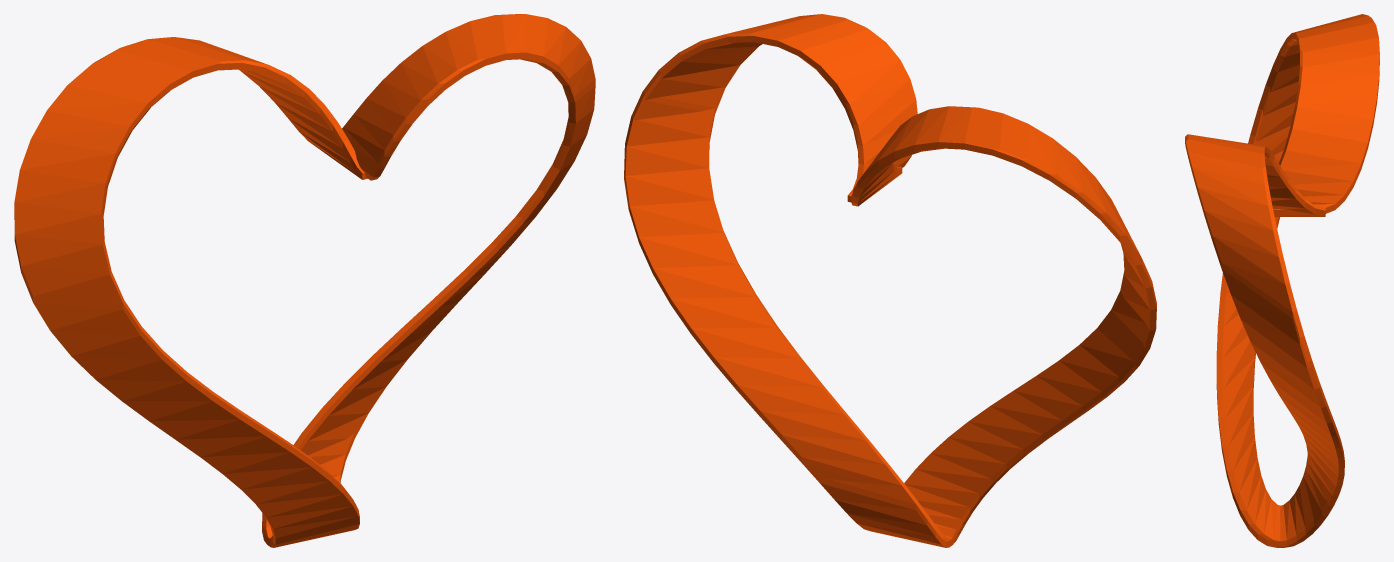
Rendered from day172_mobiusheart (2).glb.
3 renders of one model, left to right at view 1: azimuth 30°, elevation 25°; view 2: azimuth 150°, elevation 25°; view 3: azimuth 270°, elevation 25°, orthographic. The views are drawn at different scales.
Size of the model in its own units: 722 by 586 by 233.
